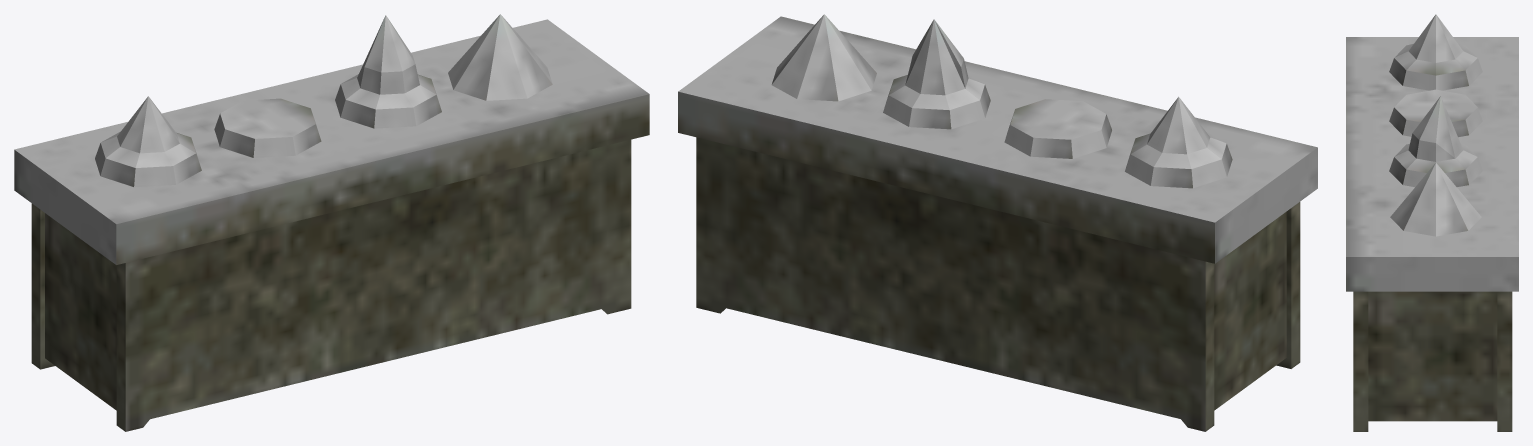
Rendered from general_obj_stonebox.fbx.
3 views of the same model, side by side, from view 1: azimuth 30°, elevation 25°; view 2: azimuth 150°, elevation 25°; view 3: azimuth 270°, elevation 25° (orthographic). The views are drawn at different scales.
Parts seen in each view (by area): view 1: Object03; view 2: Object03; view 3: Object03.
Part boxes in pixels (x1,y1,x2,y2): Object03: (14,14,649,431); Object03: (678,14,1317,431); Object03: (1346,14,1518,431).
Size of the model in its own units: 2.94 by 1.59 by 0.974.
